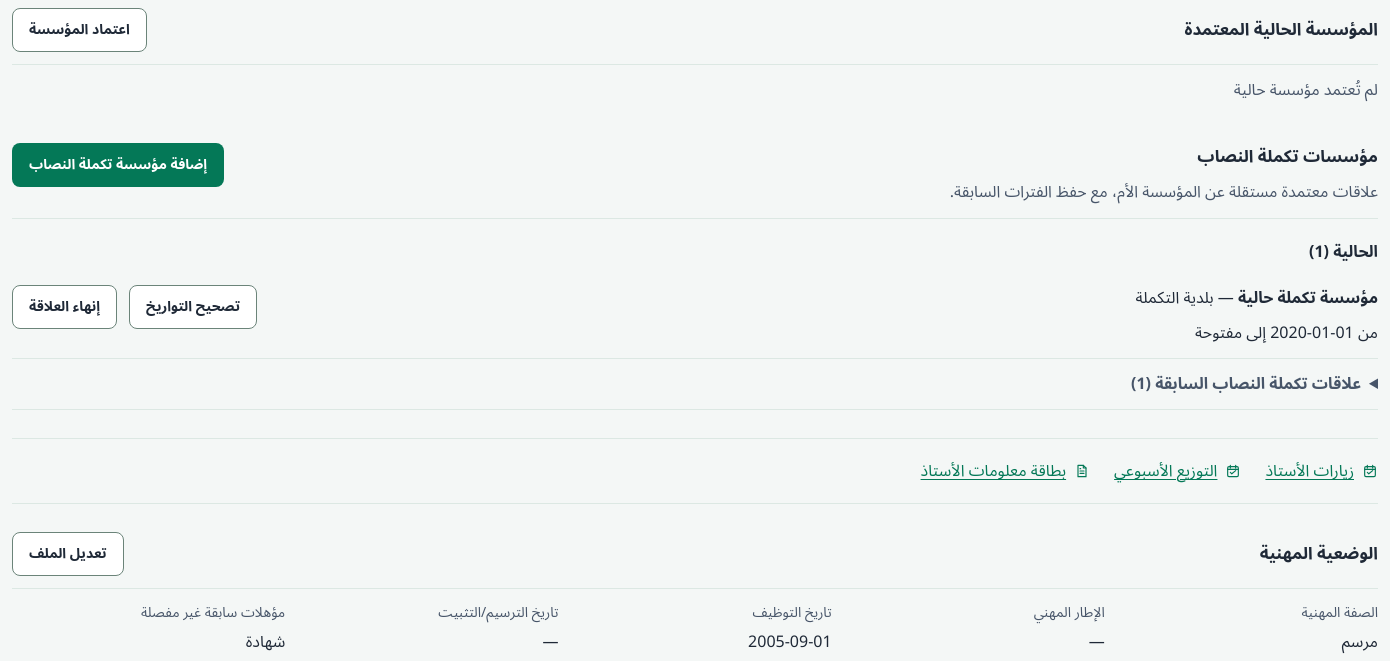
Test case: TASK-035 Teacher profile UI › preserves multiple qualifications and historical workplace relationships as secondary data
The image size is (1390, 661).
(page scrolled)
Check: the text "مؤسسة تكملة حالية" is shown, box [1238,281,1378,315]
Step 1. Click the heading "علاقات تكملة النصاب السابقة (1)" → x=1246, y=384, box [1131,367,1361,401]
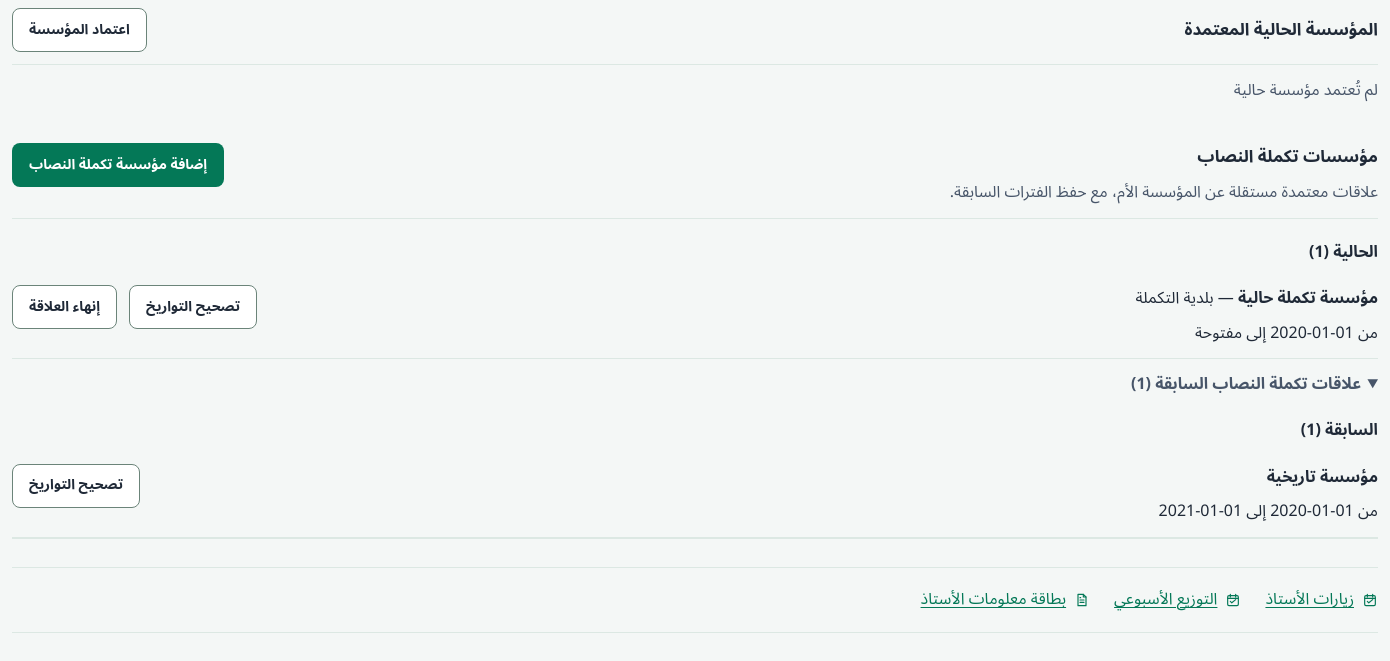
Check: the element with class "teacher-profile__identity" does not show "مؤسسة تاريخية"
Check: the button "تصحيح التواريخ" in the row of "مؤسسة تاريخية" is shown, box [12,464,140,508]
